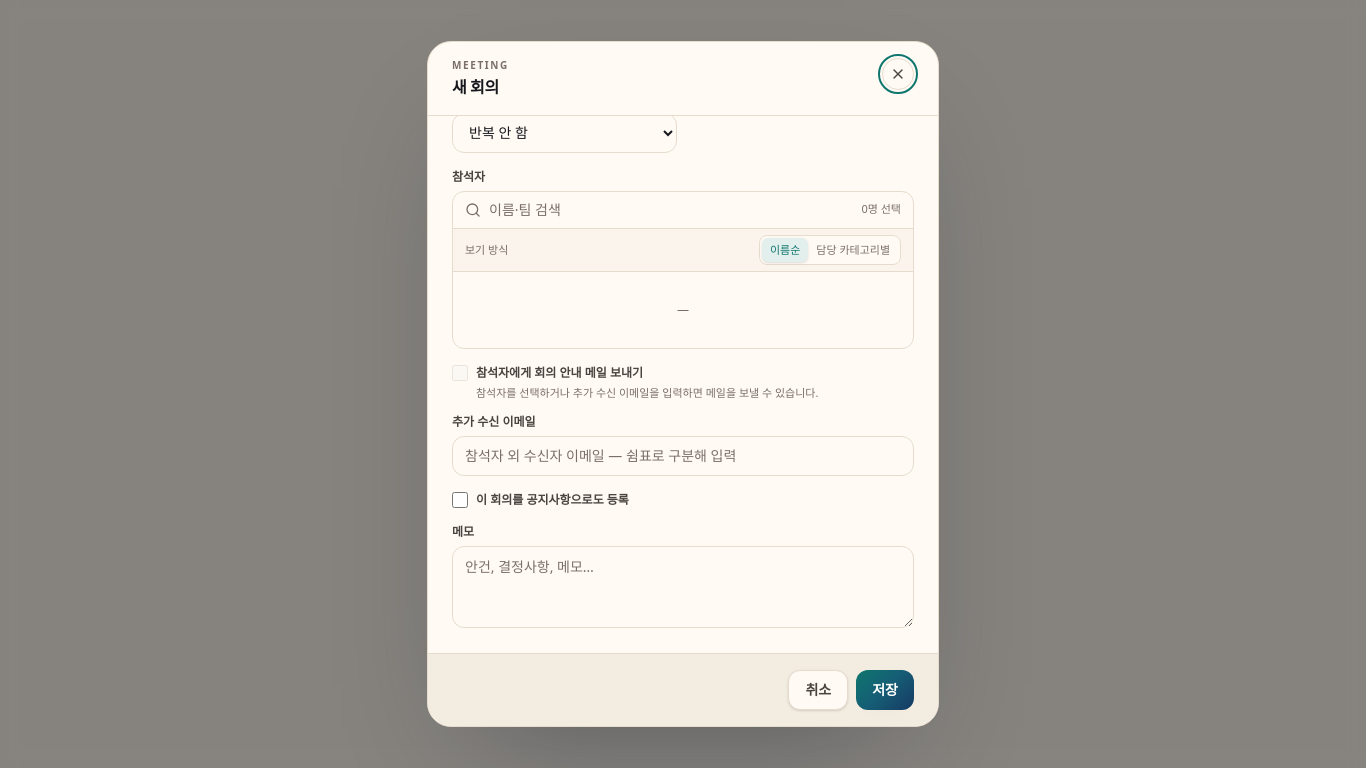
MeetingFormModal — 공지사항으로도 등록 › 반복 회의로 체크하면 첫 회차만 공지된다는 힌트가 보인다
(page scrolled)
Click the checkbox with id "announce-meeting" at (460, 500), box x1=452 y1=492 x2=468 y2=508
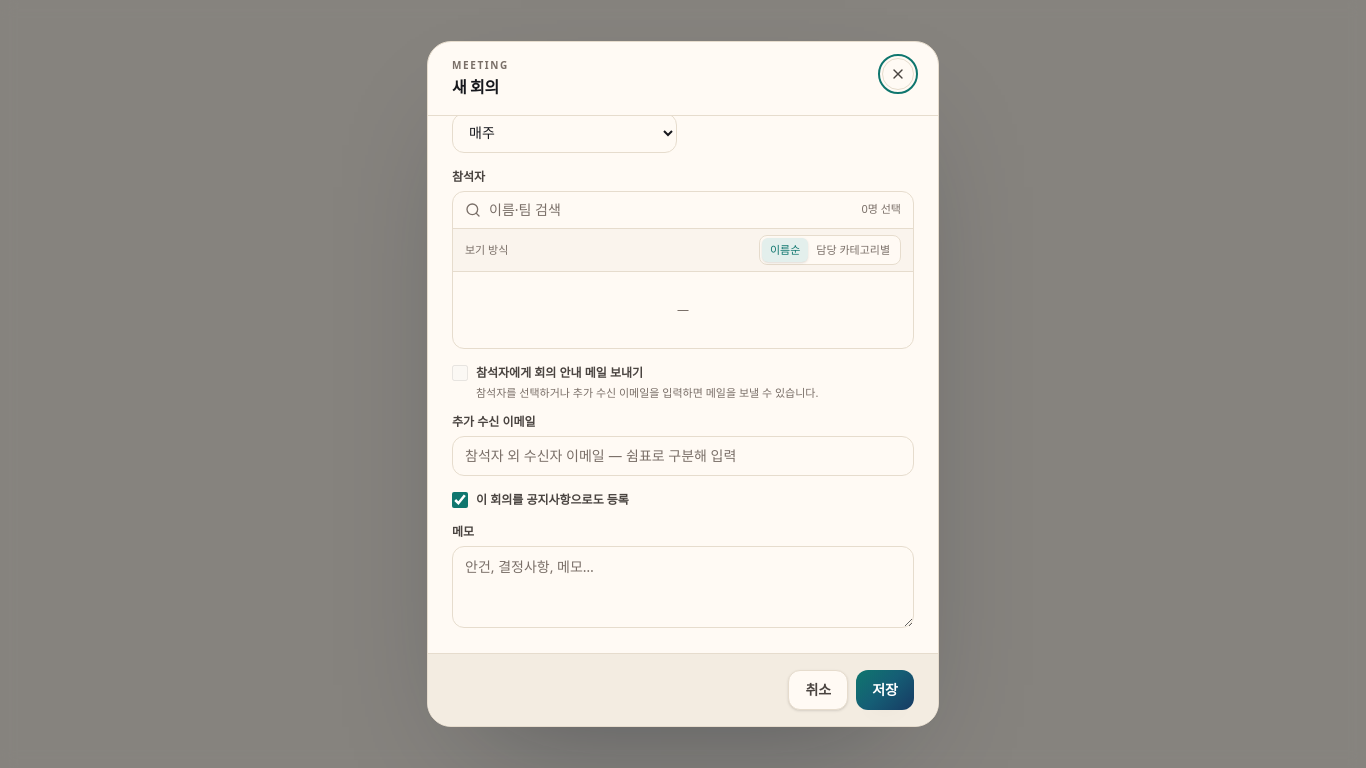
Expected: the text "첫 회차 1건만 공지됩니다" is not shown
Select "매주" in the dropdown labelled "반복" at (564, 133), box x1=452 y1=113 x2=677 y2=153
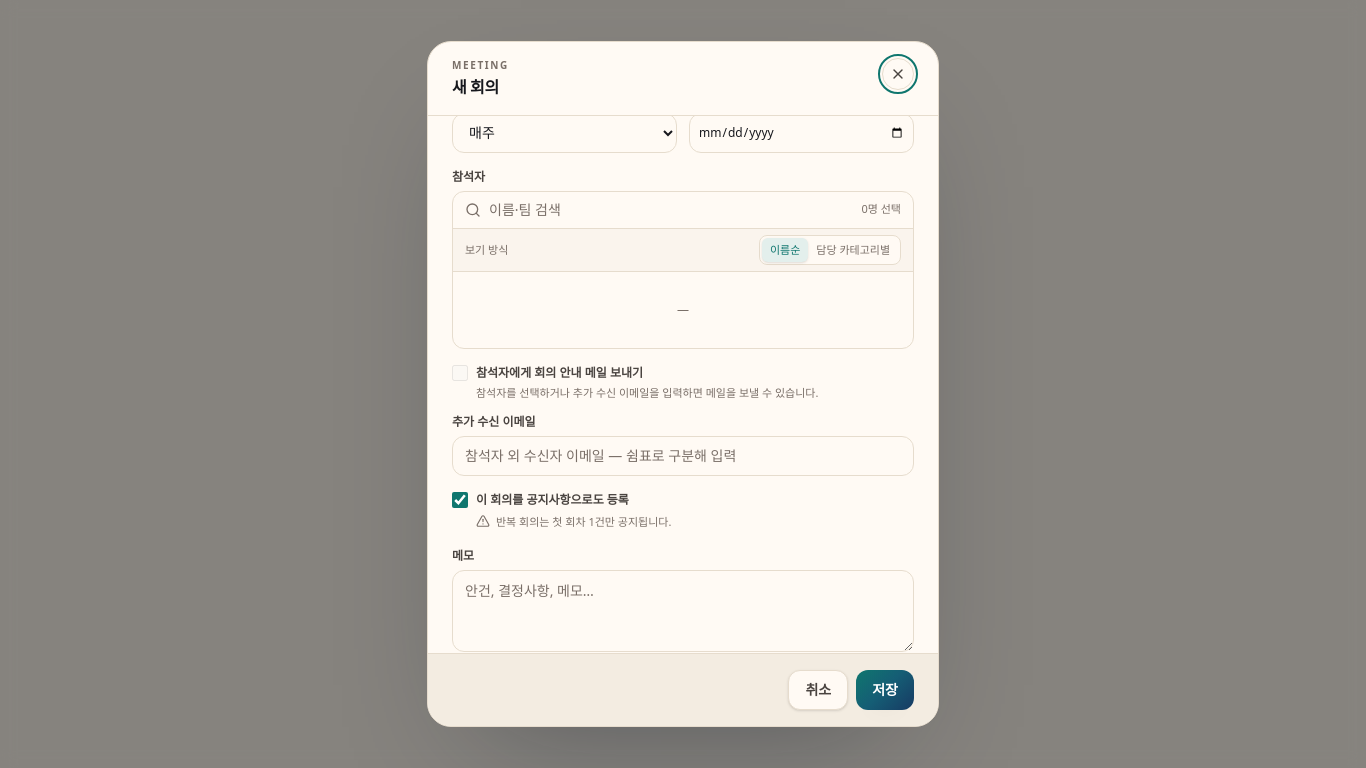
Now the text "반복 회의는 첫 회차 1건만 공지됩니다." is shown, box x1=476 y1=514 x2=671 y2=529
